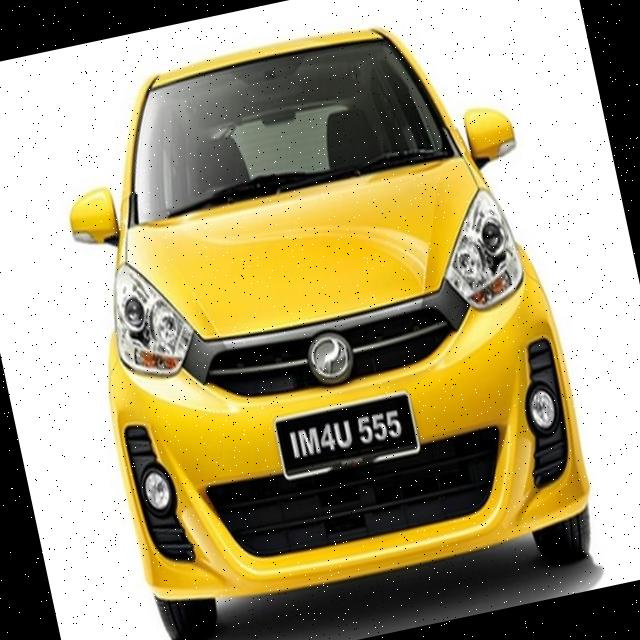License_Plate: (266, 386, 430, 492)
car: (20, 1, 640, 640)
